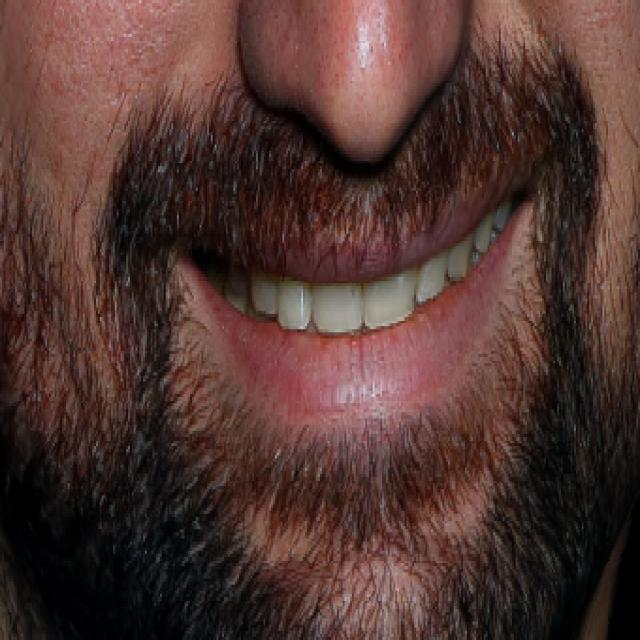11: (312, 283, 362, 332)
12: (279, 280, 311, 329)
13: (250, 274, 277, 314)
14: (230, 271, 249, 293)
21: (361, 272, 414, 326)
22: (416, 252, 444, 302)
23: (448, 234, 471, 277)
24: (472, 215, 491, 251)
25: (492, 200, 510, 232)
top teeth: (190, 189, 528, 333)
